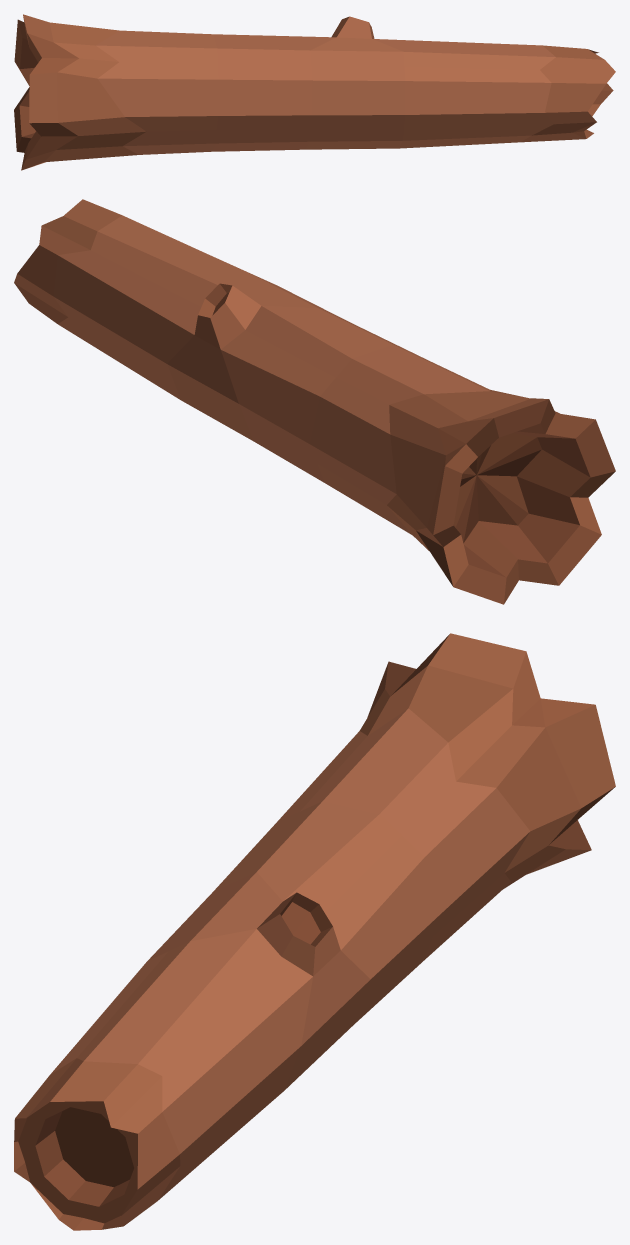
The picture shows the model from 3 angles, top to bottom: view 1: azimuth 30°, elevation 25°; view 2: azimuth 150°, elevation 25°; view 3: azimuth 270°, elevation 25°; orthographic projection. The views are drawn at different scales.
Parts seen in each view (by area): view 1: T5; view 2: T5; view 3: T5.
Boxes of the visible parts, x1,y1,x2,y2 form: T5: [14, 14, 615, 170]; T5: [14, 199, 615, 604]; T5: [14, 633, 615, 1230].
Bounding box in the file's own units: 6.58 × 1.69 × 3.95.
1 material, 1 textured.
